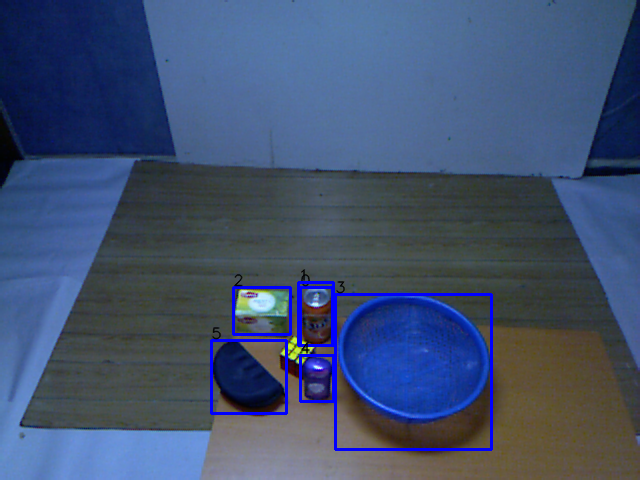colador: (330, 292, 497, 430)
cubix: (278, 334, 319, 382)
desodorante: (295, 355, 338, 405)
estuche: (205, 339, 288, 413)
lata: (298, 284, 337, 346)
te: (229, 285, 292, 340)
